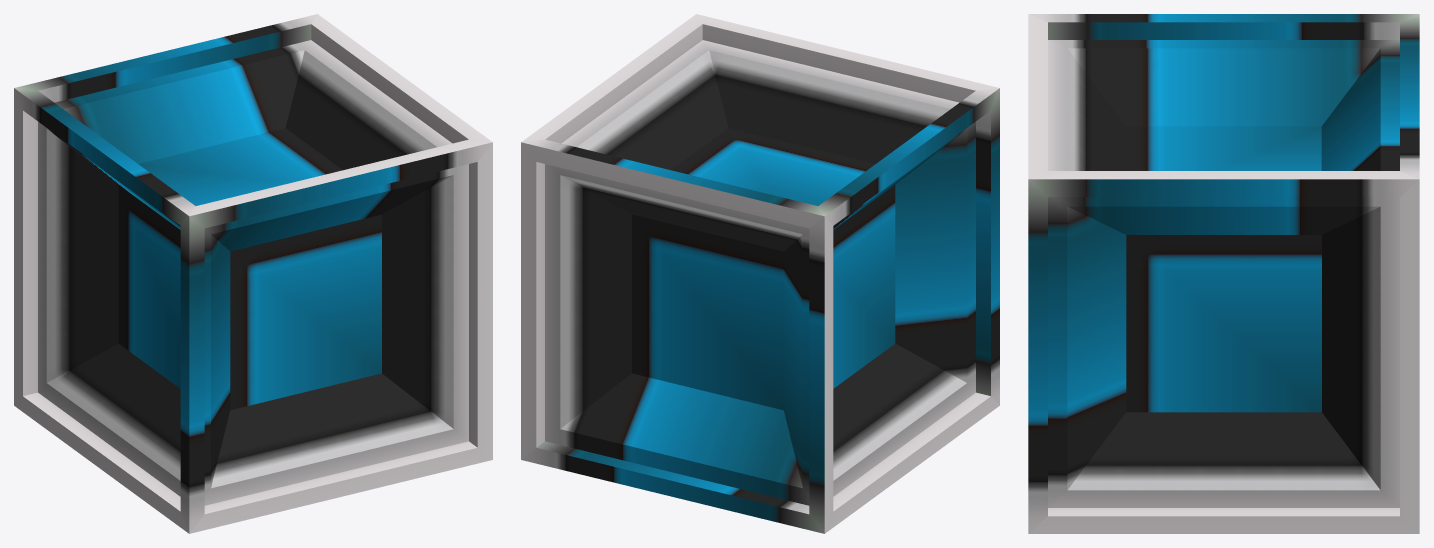
File: infinite_tank.obj
3 renders of one model, left to right at view 1: azimuth 30°, elevation 25°; view 2: azimuth 150°, elevation 25°; view 3: azimuth 270°, elevation 25°, orthographic. The views are drawn at different scales.
Parts seen in each view (by area): view 1: Cube.002; view 2: Cube.002; view 3: Cube.002.
Boxes of the visible parts, left/top/right/bottom form: Cube.002: left=14, top=14, right=492, bottom=533; Cube.002: left=521, top=14, right=999, bottom=533; Cube.002: left=1028, top=14, right=1419, bottom=533.
Bounding box in the file's own units: 1 × 1 × 1.
